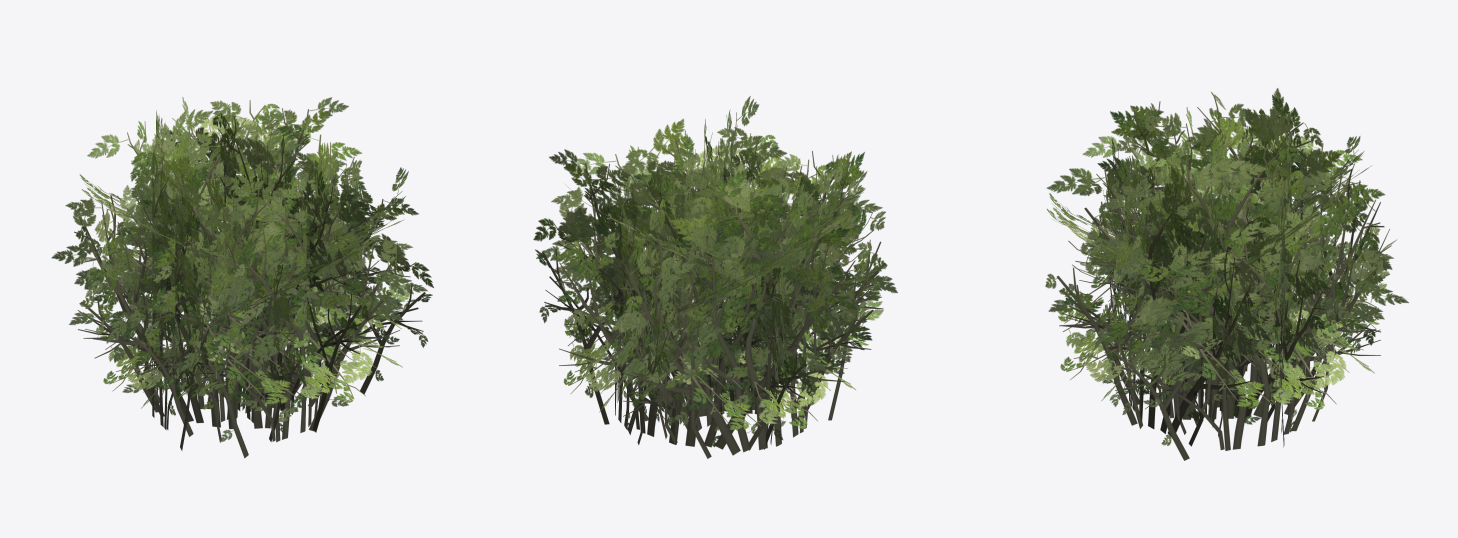
File: bush-1.glb
3 renders of one model, left to right at view 1: azimuth 30°, elevation 25°; view 2: azimuth 150°, elevation 25°; view 3: azimuth 270°, elevation 25°, orthographic.
Visible parts, largest first — view 1: Bush-04; view 2: Bush-04; view 3: Bush-04.
Part boxes in pixels (left/top/right/bottom): Bush-04: left=51, top=97, right=433, bottom=458; Bush-04: left=533, top=96, right=897, bottom=458; Bush-04: left=1045, top=88, right=1408, bottom=460.
Bounding box in the file's own units: 1.17 × 1.02 × 1.22.
Materials: 4 (4 with a texture image).
